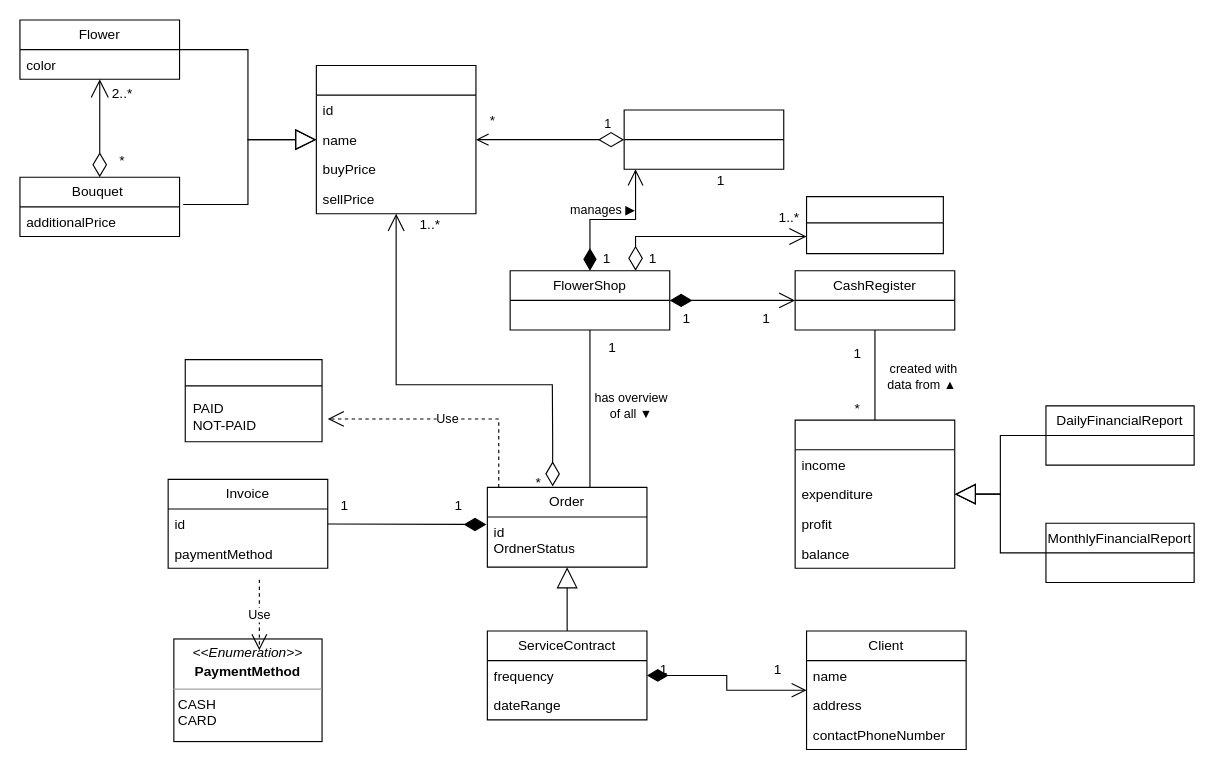
Image size: 1214x773. Some labels were removed from this diagram. Here are the shapes that lost their labels. From the top down, the box of each, then its label:
(315, 64, 476, 214): Product
(623, 109, 784, 169): Storage
(805, 196, 943, 254): RegisteredUser
(184, 359, 322, 442): OrderStatus
(794, 419, 955, 568): FinancialReport
